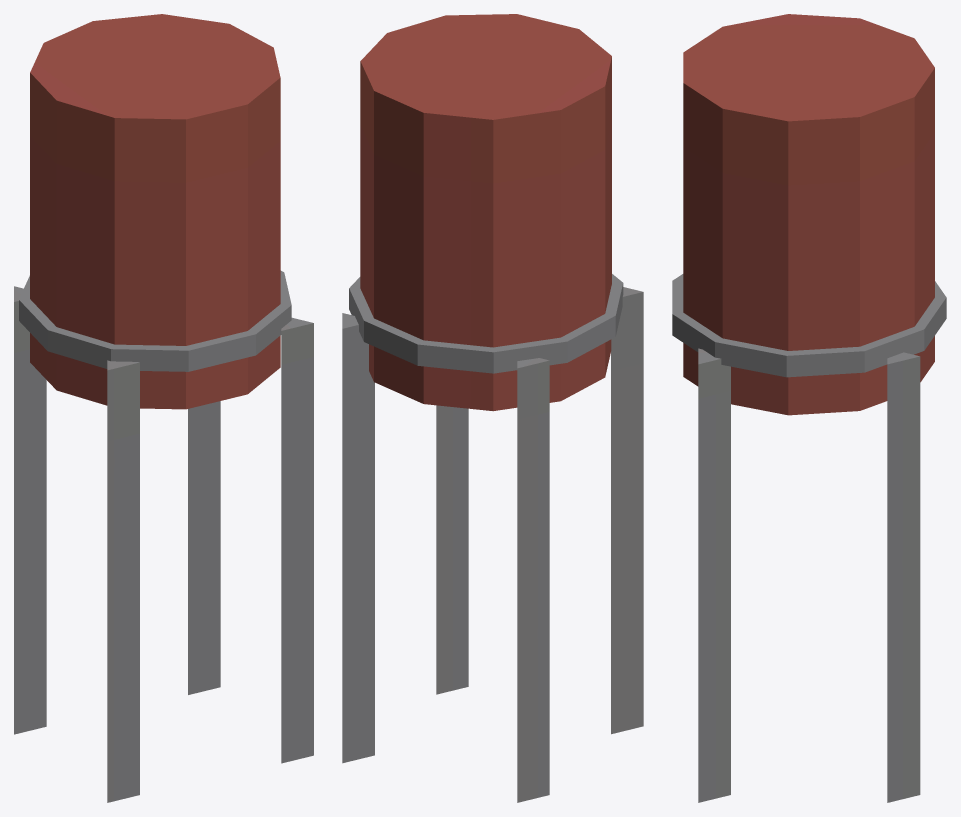
File: watertank.glb
3 views of the same model, side by side, from view 1: azimuth 30°, elevation 25°; view 2: azimuth 150°, elevation 25°; view 3: azimuth 270°, elevation 25° (orthographic).
Parts seen in each view (by area): view 1: Cylinder; view 2: Cylinder; view 3: Cylinder.
Boxes of the visible parts, x1,y1,x2,y2 form: Cylinder: (14, 14, 313, 802); Cylinder: (342, 14, 643, 802); Cylinder: (672, 14, 946, 802).
Size of the model in its own units: 2.16 by 5.88 by 2.14.
2 materials, 2 textured.
